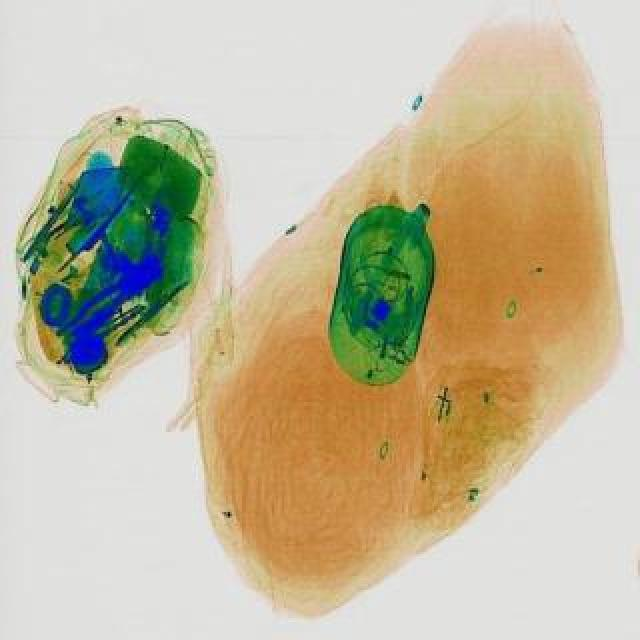wrench: (48, 250, 166, 350)
